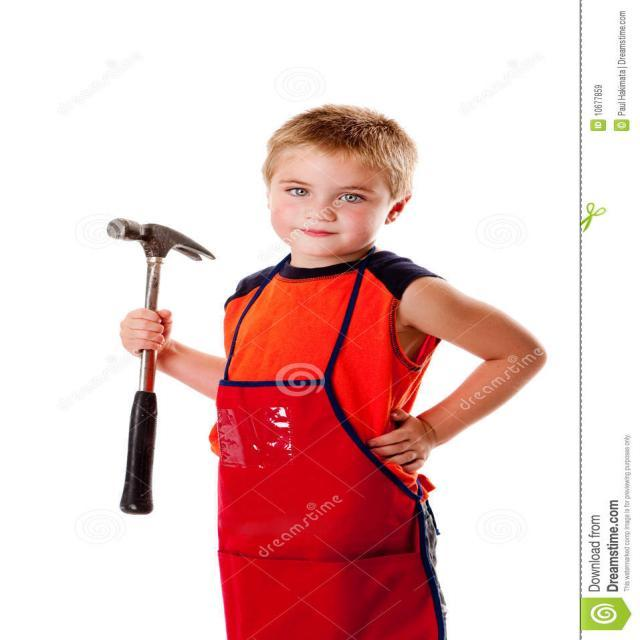hammer: (90, 202, 224, 524)
